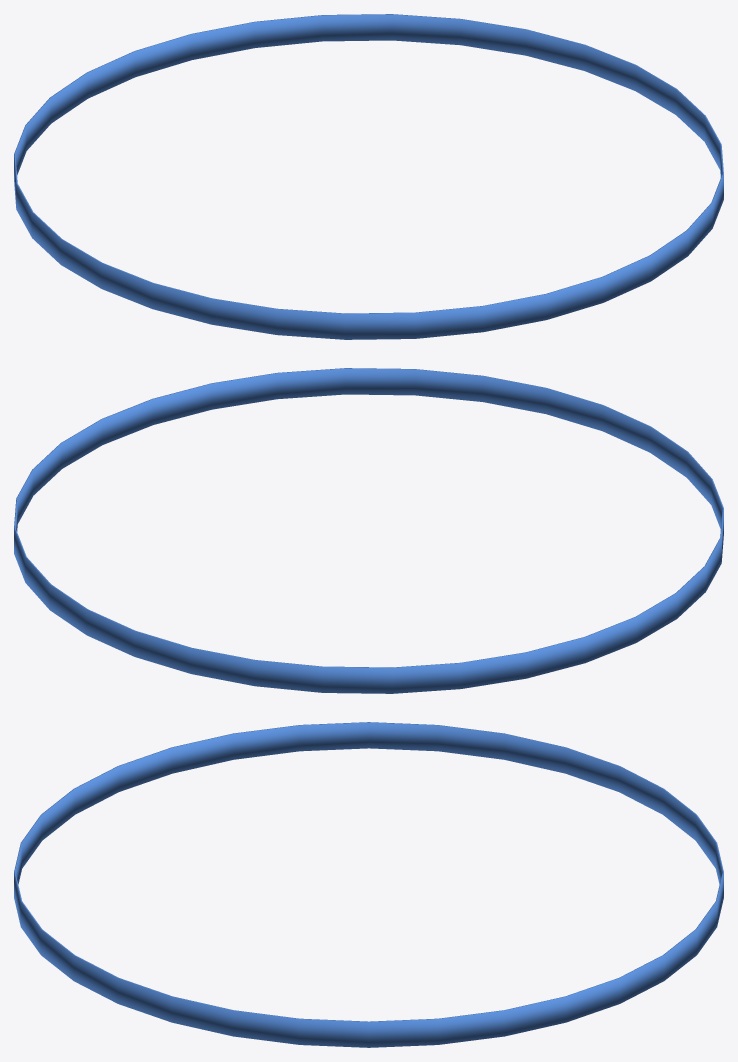
File: ring.obj
The picture shows the model from 3 angles, top to bottom: view 1: azimuth 30°, elevation 25°; view 2: azimuth 150°, elevation 25°; view 3: azimuth 270°, elevation 25°; orthographic projection.
Parts seen in each view (by area): view 1: Tube001; view 2: Tube001; view 3: Tube001.
Boxes of the visible parts, bbox=[...] form: Tube001: bbox=[14, 14, 723, 339]; Tube001: bbox=[14, 368, 723, 693]; Tube001: bbox=[14, 722, 723, 1047].
Bounding box in the file's own units: 0.5 × 0.02 × 0.5.
